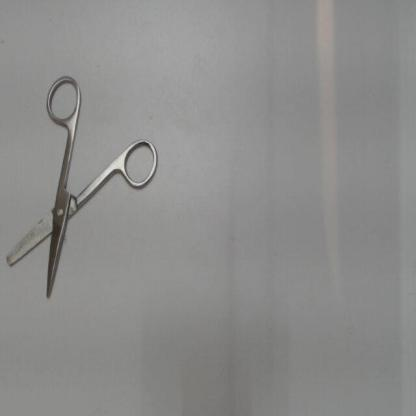Dressing Scissors: (0, 65, 163, 311)
